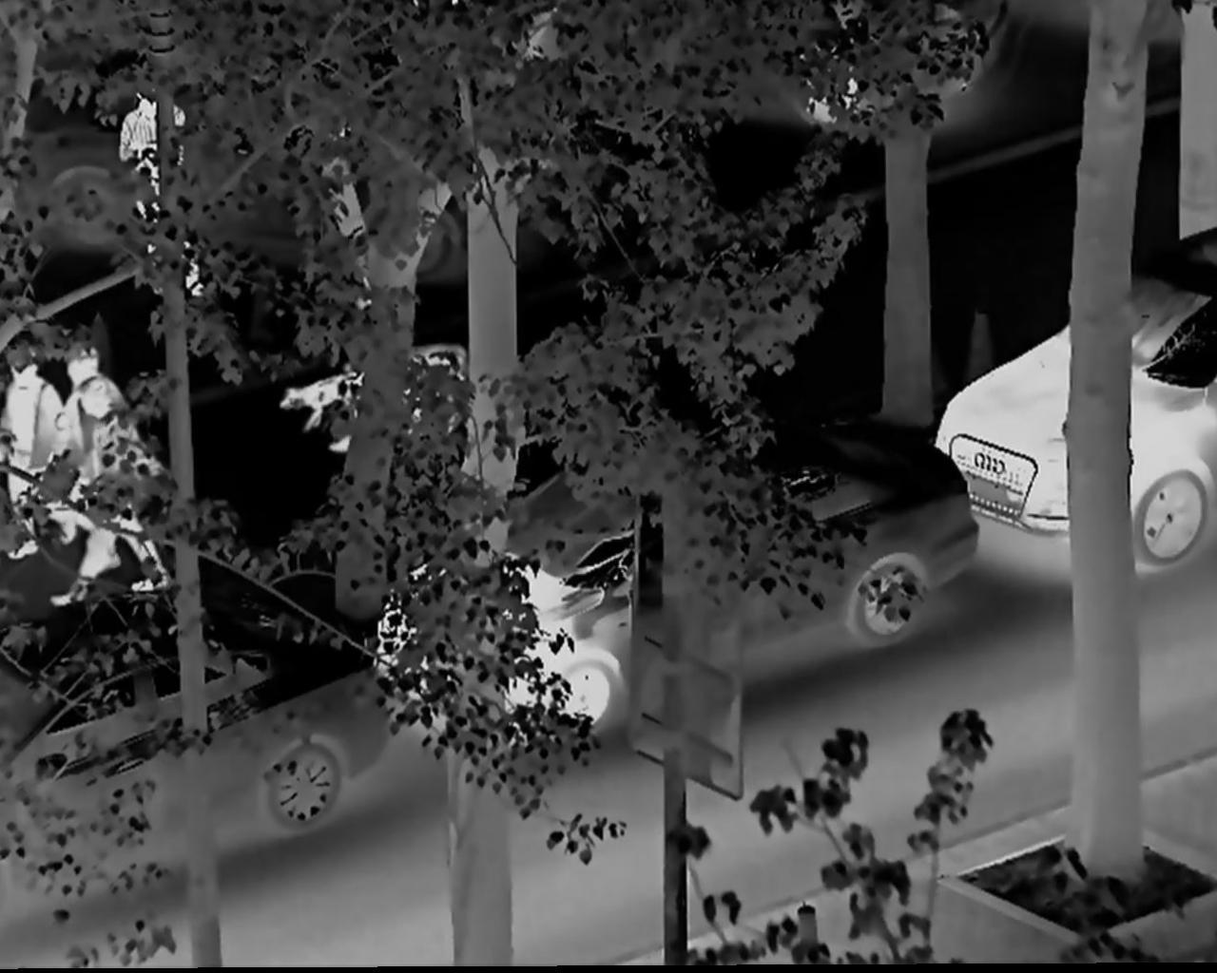person: (55, 375, 176, 605), (51, 328, 141, 555), (115, 87, 197, 310), (6, 340, 81, 563)
